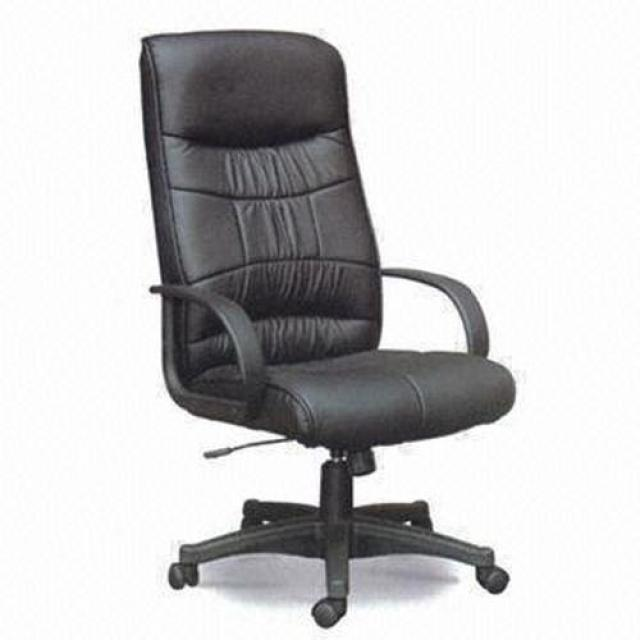swivelchair: (141, 29, 517, 630)
